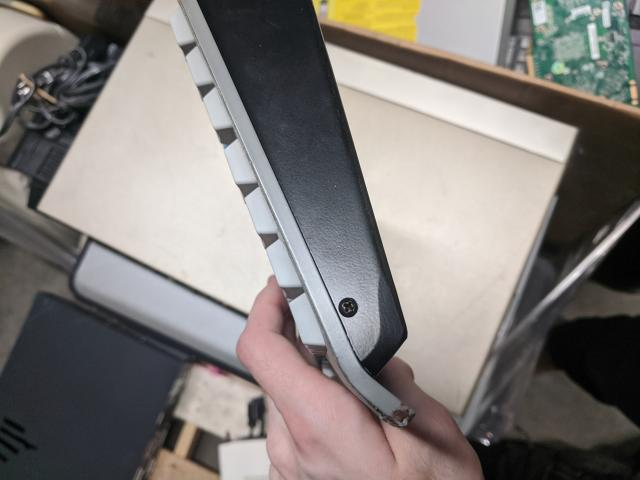CRS: (338, 296, 359, 318)
